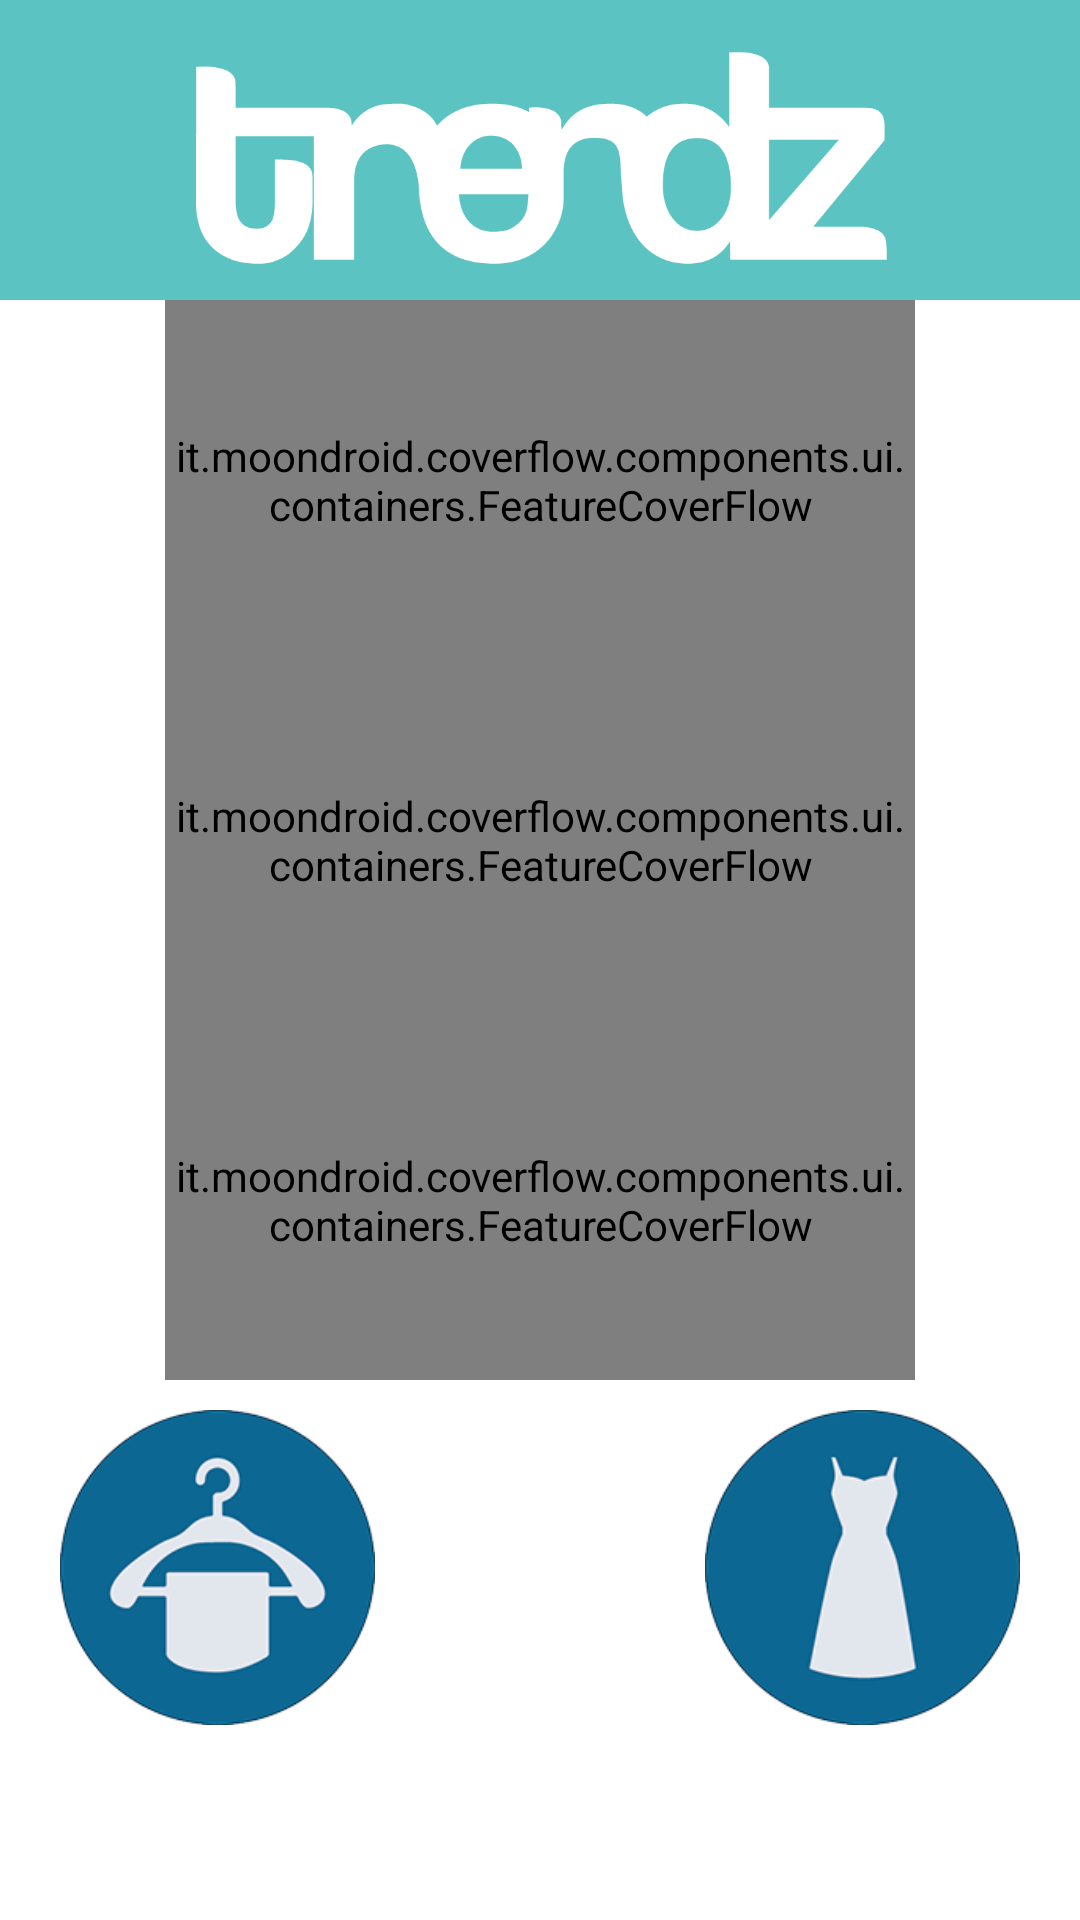

Screen size 1080w x 1920h. Icon name, then its box in pixels as (left=x1, top=y1, right=x2, bottom=y2):
closet: (left=60, top=1410, right=375, bottom=1725)
